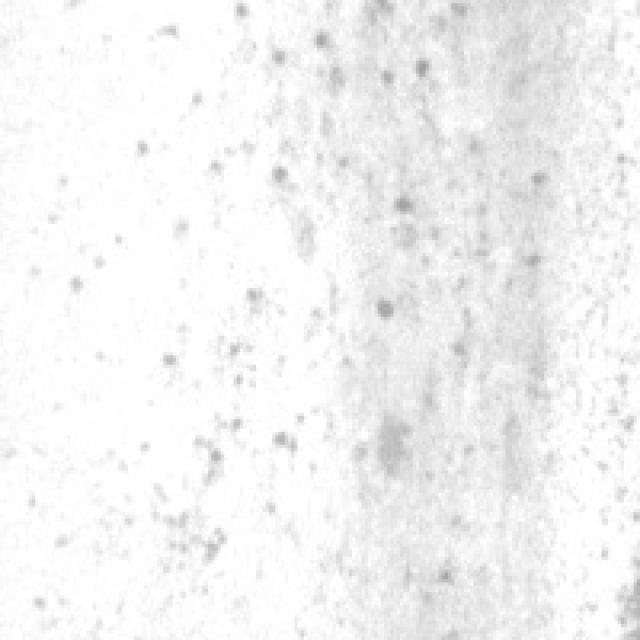pitted_surface: (96, 0, 525, 480)
